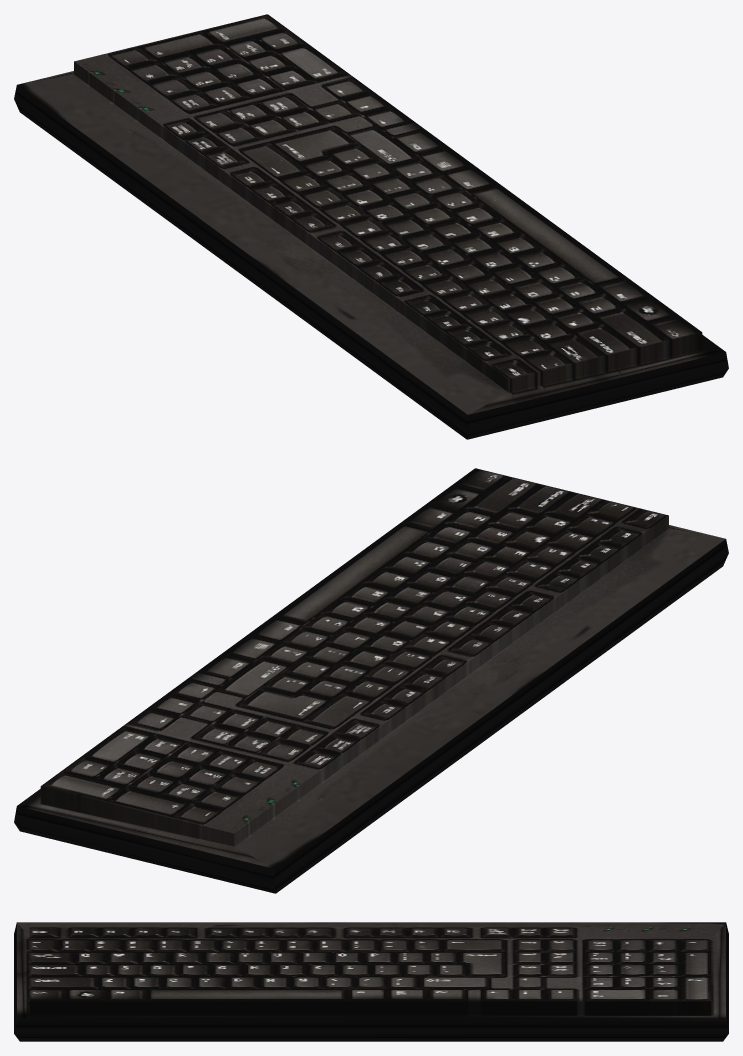
The model's file is keyboard.fbx.
3 views of the same model, one above another, from view 1: azimuth 30°, elevation 25°; view 2: azimuth 150°, elevation 25°; view 3: azimuth 270°, elevation 25° (orthographic). The views are drawn at different scales.
Parts seen in each view (by area): view 1: Cube; view 2: Cube; view 3: Cube.
Part boxes in pixels (bbox=[...]): Cube: bbox=[14, 14, 728, 439]; Cube: bbox=[14, 468, 728, 893]; Cube: bbox=[14, 922, 728, 1041].
Bounding box in the file's own units: 28.41 × 4.59 × 85.99.
Materials: 1 (1 with a texture image).
